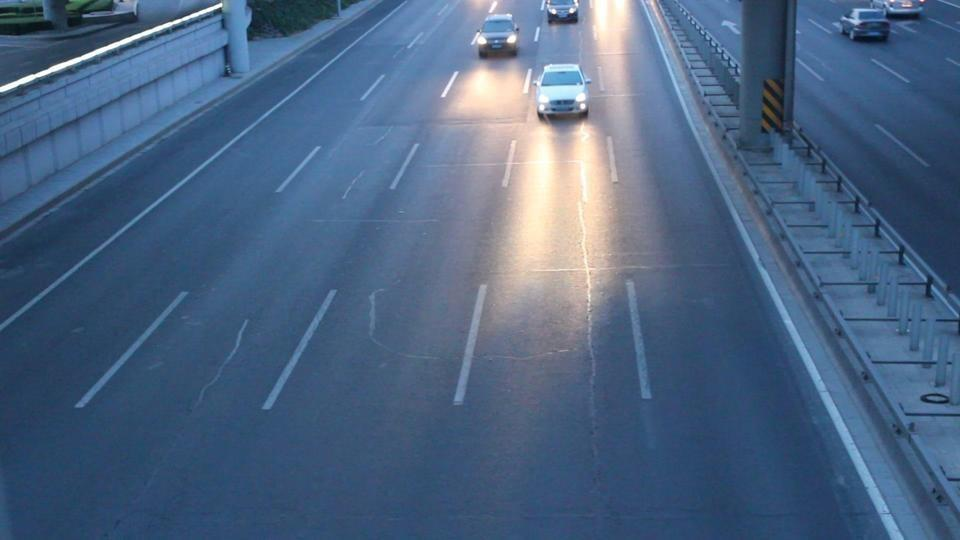car: (532, 63, 592, 120), (473, 14, 521, 59), (838, 8, 890, 42), (884, 0, 925, 20), (543, 0, 580, 22)
